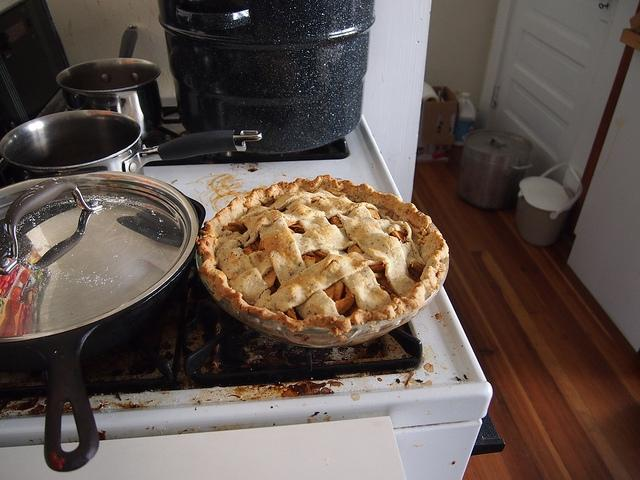apple: (334, 293, 356, 315), (263, 269, 276, 289), (391, 230, 407, 243), (334, 280, 344, 300), (347, 244, 364, 254), (328, 216, 342, 228), (324, 284, 334, 300), (286, 308, 298, 320), (304, 256, 316, 268), (410, 262, 424, 272), (312, 250, 327, 258), (248, 242, 258, 252), (374, 272, 385, 280)
